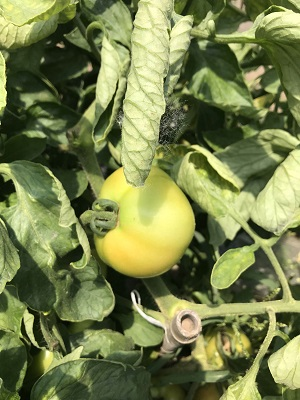immature-tomato: (92, 166, 196, 278)
